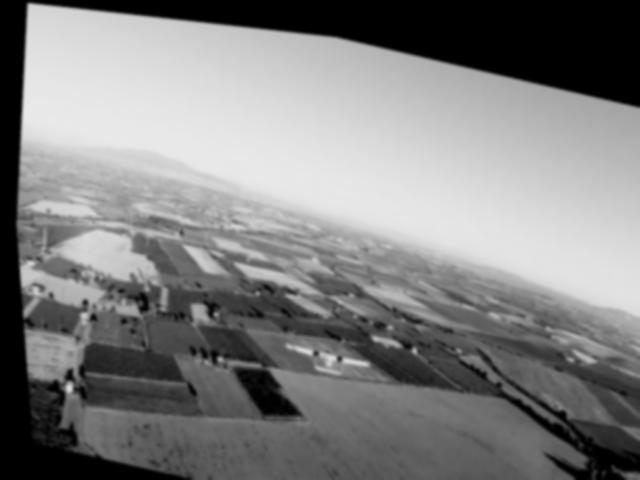hedef: (271, 325, 374, 378)
